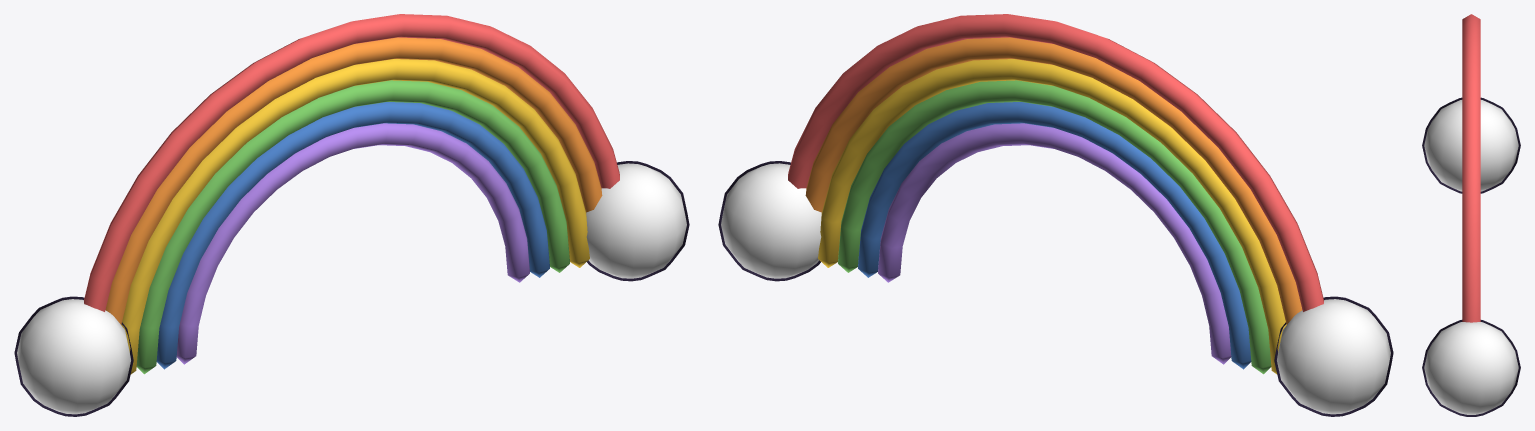
File: deco_rainbow.glb
3 views of the same model, side by side, from view 1: azimuth 30°, elevation 25°; view 2: azimuth 150°, elevation 25°; view 3: azimuth 270°, elevation 25° (orthographic). The views are drawn at different scales.
Visible parts, largest first — view 1: band, band.002, band.001, band.003, band.004, band.005, sphere, sphere.001; view 2: band, band.002, band.001, band.003, band.004, band.005, sphere, sphere.001; view 3: sphere.001, sphere, band.
Part boxes in pixels (x1,y1,x2,y2): band: [84, 14, 619, 311]; band.002: [121, 59, 589, 374]; band.001: [105, 37, 602, 324]; band.003: [136, 80, 569, 374]; band.004: [156, 102, 549, 369]; band.005: [176, 123, 529, 364]; sphere: [14, 296, 133, 416]; sphere.001: [586, 161, 689, 281]; band: [788, 14, 1323, 311]; band.002: [818, 59, 1286, 374]; band.001: [805, 37, 1302, 324]; band.003: [838, 80, 1271, 374]; band.004: [858, 102, 1251, 369]; band.005: [878, 123, 1231, 364]; sphere: [1274, 296, 1393, 416]; sphere.001: [718, 161, 821, 281]; sphere.001: [1422, 320, 1520, 416]; sphere: [1422, 97, 1520, 193]; band: [1462, 14, 1480, 322].
Size of the model in its own units: 5.92 by 2.77 by 0.94.
